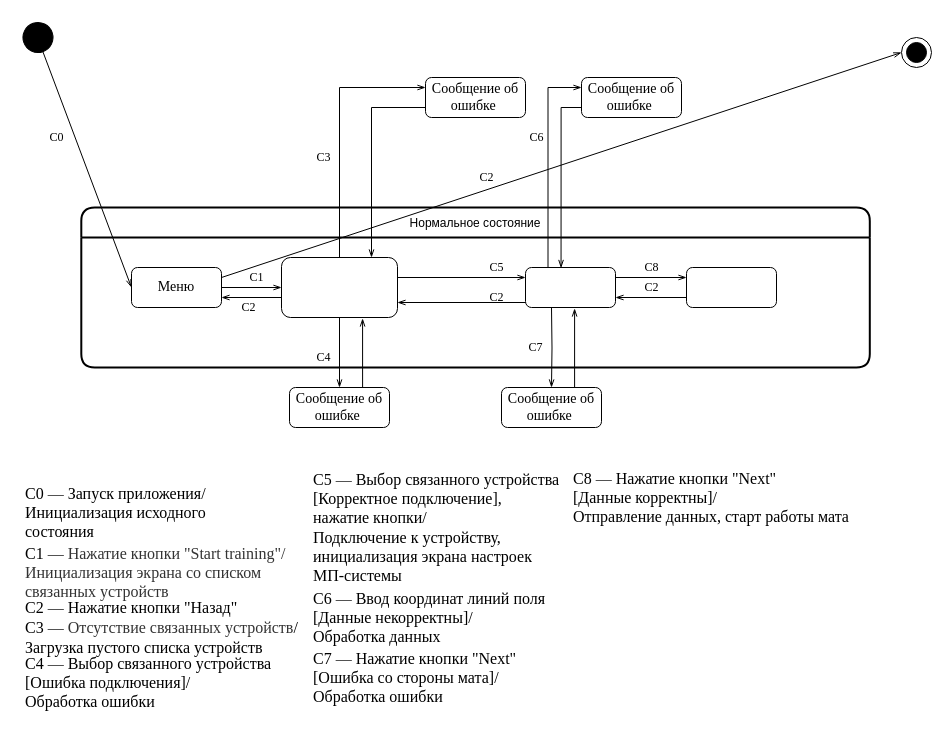
The diagram is 949 pixels wide and 730 high, and some of its shapes have lost their labels. The shapes that lost their labels are listed below. From the top down, each one's centre as x and y in pixels, then its label:
At pixel 339 287: "Список связанных устройств".
At pixel 570 287: "Настройки работы".
At pixel 731 287: "Работа устройства".
